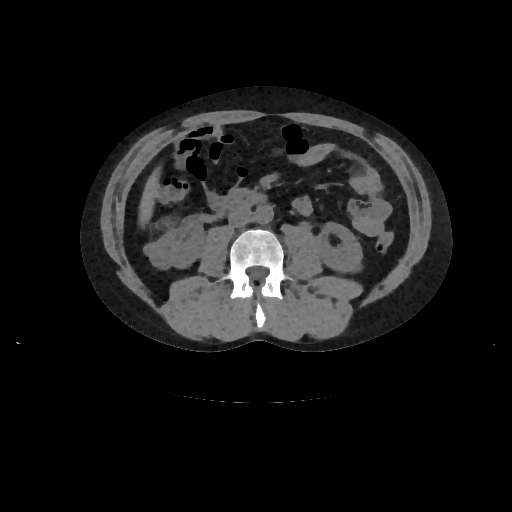Lesion: (140, 239, 171, 261)
